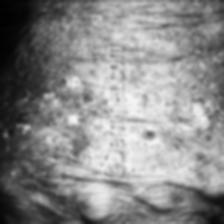Potentially Malignant Skin Tumors: (4, 54, 102, 176), (129, 79, 217, 153)
